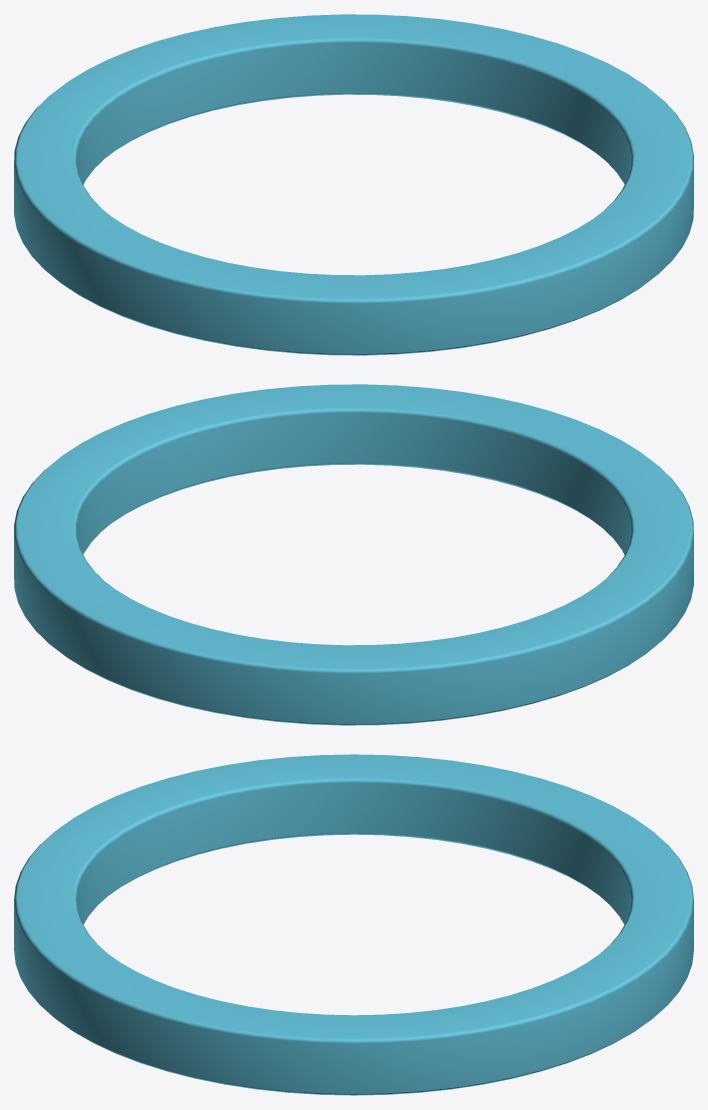
3 views of the same model, one above another, from view 1: azimuth 30°, elevation 25°; view 2: azimuth 150°, elevation 25°; view 3: azimuth 270°, elevation 25° (orthographic).
Parts seen in each view (by area): view 1: seal_body; view 2: seal_body; view 3: seal_body.
Boxes of the visible parts, x1,y1,x2,y2 form: seal_body: (14, 14, 693, 355); seal_body: (14, 384, 693, 725); seal_body: (14, 754, 693, 1095).
Bounding box in the file's own units: 0.0857 × 0.00792 × 0.0857.
